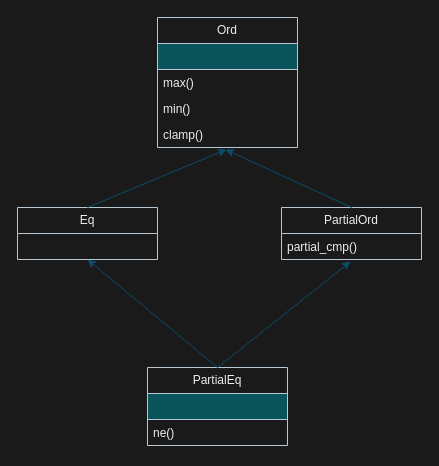
This 439x466 diagram has some shape labels left out. Here are the shapes that lost their labels. From the top down, the centre of each, then its label:
point 227,56: cmp()
point 217,406: eq()
